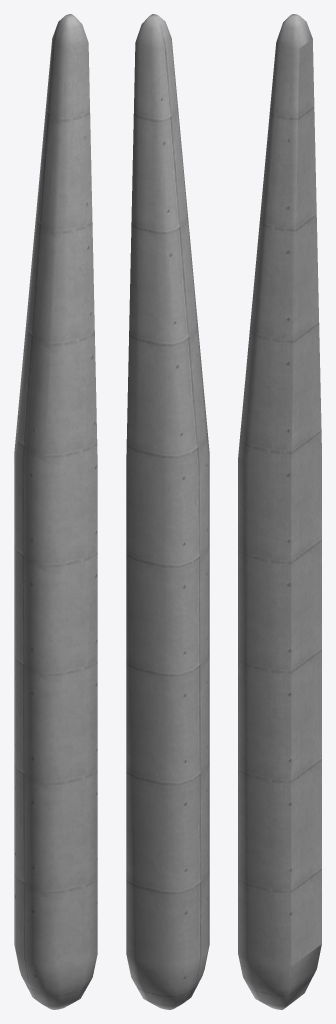
Rendered from surface-tail.fbx.
The picture shows the model from 3 angles, left to right: view 1: azimuth 30°, elevation 25°; view 2: azimuth 150°, elevation 25°; view 3: azimuth 330°, elevation 25°; orthographic projection.
Parts seen in each view (by area): view 1: surface-tail; view 2: surface-tail; view 3: surface-tail.
Boxes of the visible parts, bbox=[...] form: surface-tail: bbox=[14, 14, 97, 1009]; surface-tail: bbox=[126, 14, 209, 1009]; surface-tail: bbox=[238, 14, 321, 1009].
Size of what is drawn, in the model's own units: 0.3646 by 5.87 by 0.4.
Materials: 1 (1 with a texture image).
